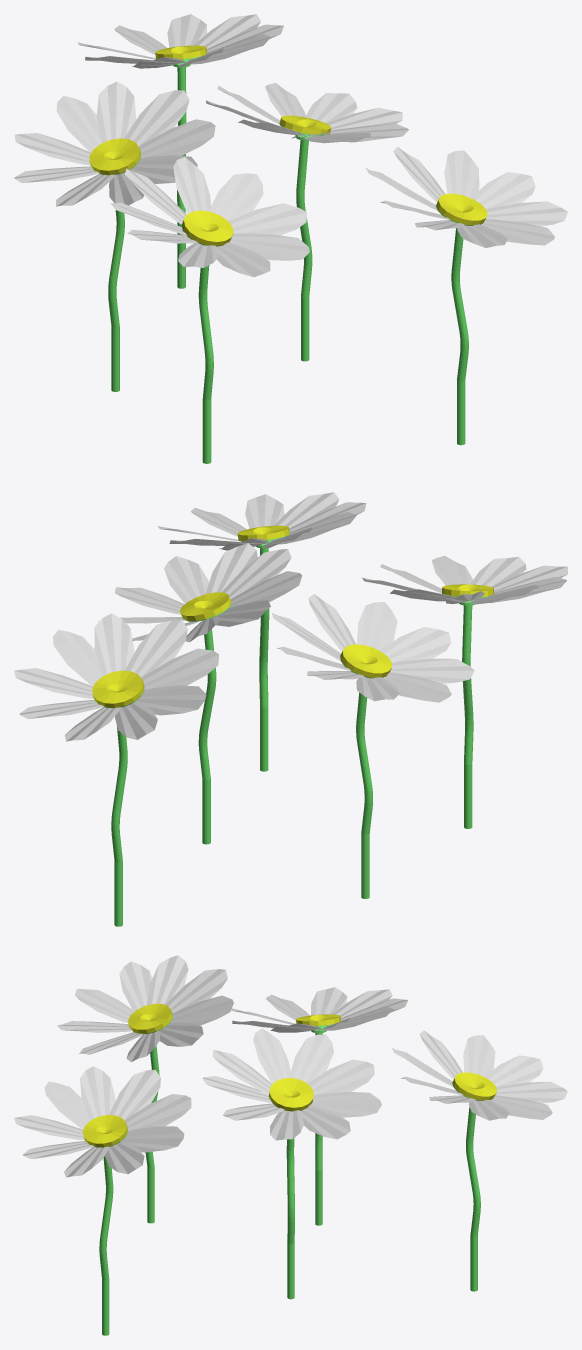
Rendered from Blumengruppe1.fbx.
3 renders of one model, top to bottom at view 1: azimuth 30°, elevation 25°; view 2: azimuth 150°, elevation 25°; view 3: azimuth 270°, elevation 25°, orthographic. The views are drawn at different scales.
Visible parts, largest first — view 1: Circle.007, Circle.003, Circle.001, Circle.005, Circle.012, Circle.004, Circle.002, Circle.008, Circle.006, Circle.011; view 2: Circle.012, Circle.007, Circle.005, Circle.001, Circle.003, Circle.011, Circle.008, Circle.006, Circle.004, Circle.002; view 3: Circle.005, Circle.001, Circle.003, Circle.012, Circle.007, Circle.002, Circle.006, Circle.011, Circle.004, Circle.008.
Part boxes in pixels (x1=…): Circle.007: x1=14, y1=81, x2=215, y2=206; Circle.003: x1=111, y1=157, x2=309, y2=277; Circle.001: x1=366, y1=147, x2=567, y2=247; Circle.005: x1=206, y1=83, x2=408, y2=143; Circle.012: x1=77, y1=14, x2=283, y2=68; Circle.004: x1=181, y1=210, x2=233, y2=463; Circle.002: x1=436, y1=193, x2=487, y2=445; Circle.008: x1=89, y1=138, x2=140, y2=391; Circle.006: x1=279, y1=115, x2=331, y2=361; Circle.011: x1=155, y1=45, x2=206, y2=288; Circle.012: x1=14, y1=613, x2=219, y2=741; Circle.007: x1=272, y1=594, x2=474, y2=702; Circle.005: x1=98, y1=543, x2=302, y2=642; Circle.001: x1=157, y1=492, x2=366, y2=550; Circle.003: x1=362, y1=555, x2=567, y2=604; Circle.011: x1=92, y1=670, x2=144, y2=926; Circle.008: x1=340, y1=644, x2=391, y2=898; Circle.006: x1=180, y1=592, x2=231, y2=844; Circle.004: x1=442, y1=584, x2=493, y2=828; Circle.002: x1=237, y1=525, x2=289, y2=771; Circle.005: x1=202, y1=1028, x2=381, y2=1140; Circle.001: x1=14, y1=1066, x2=191, y2=1177; Circle.003: x1=57, y1=955, x2=233, y2=1061; Circle.012: x1=392, y1=1030, x2=567, y2=1120; Circle.007: x1=231, y1=987, x2=407, y2=1032; Circle.002: x1=82, y1=1115, x2=127, y2=1335; Circle.006: x1=268, y1=1078, x2=313, y2=1299; Circle.011: x1=452, y1=1072, x2=497, y2=1291; Circle.004: x1=128, y1=1003, x2=172, y2=1223; Circle.008: x1=296, y1=1014, x2=340, y2=1225.
Bounding box in the file's own units: 1805 × 1236 × 2465.
